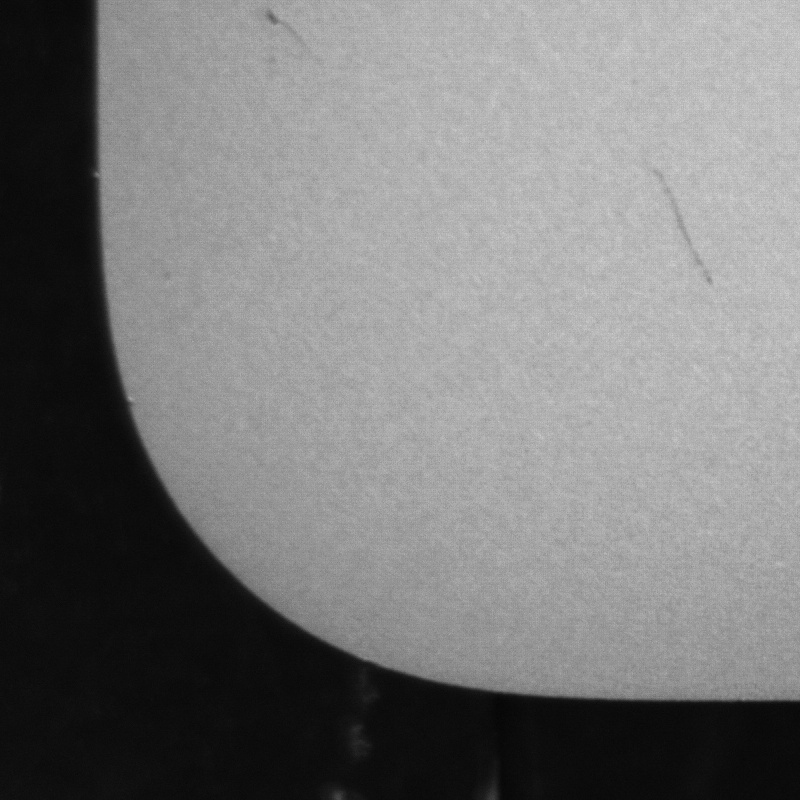defect: (651, 165, 719, 286), (266, 9, 323, 63), (161, 267, 178, 292)
